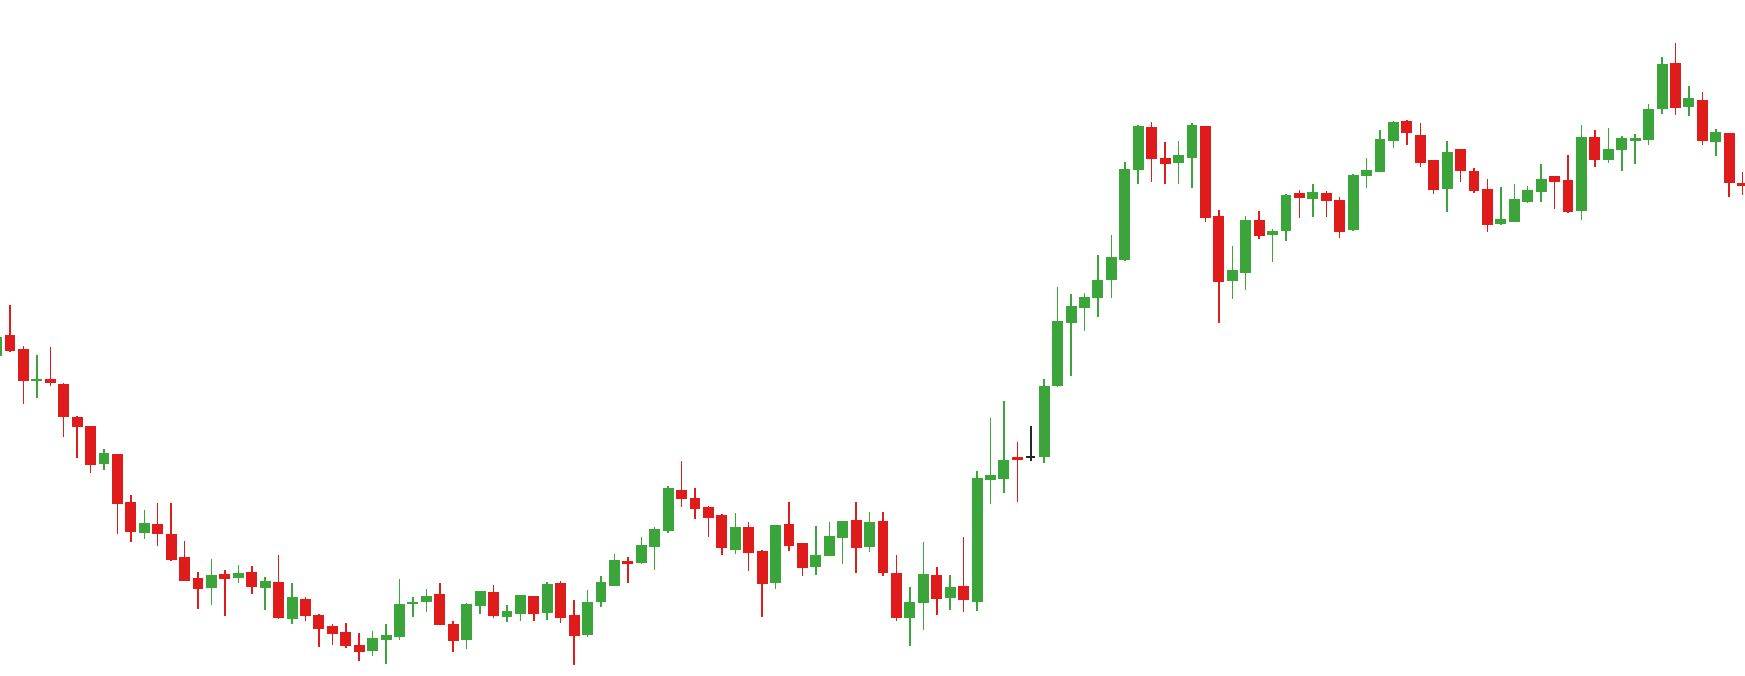buy: (756, 525, 919, 654), (448, 602, 597, 665)
